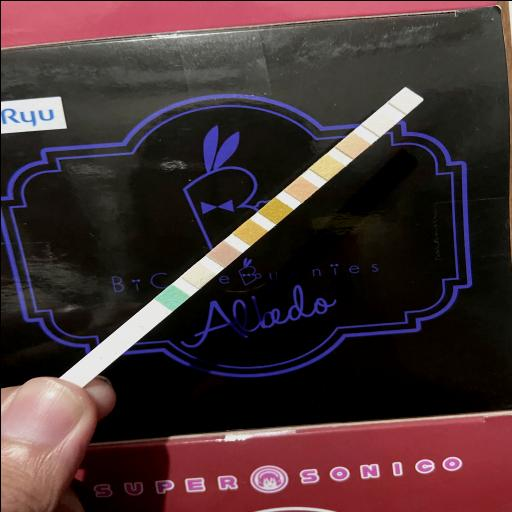Bilirubin: (187, 270, 209, 280)
Blood: (264, 205, 286, 215)
Glucose: (160, 292, 182, 302)
Ketone: (212, 248, 234, 258)
Leukocytes: (395, 94, 417, 104)
Nitrite: (368, 116, 390, 127)
Protein: (316, 161, 338, 171)
SpGravity: (239, 226, 261, 236)
Urobilinogen: (341, 140, 363, 150)
pH: (290, 183, 312, 193)
strip: (61, 86, 424, 386)
